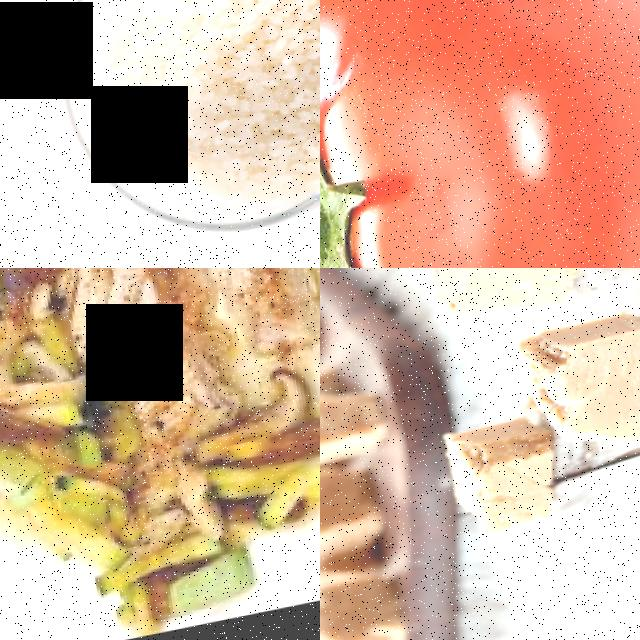tofu: (517, 307, 640, 464), (433, 415, 570, 547), (416, 268, 589, 329)
tomato: (320, 0, 640, 268)
white rice: (123, 0, 320, 198)
